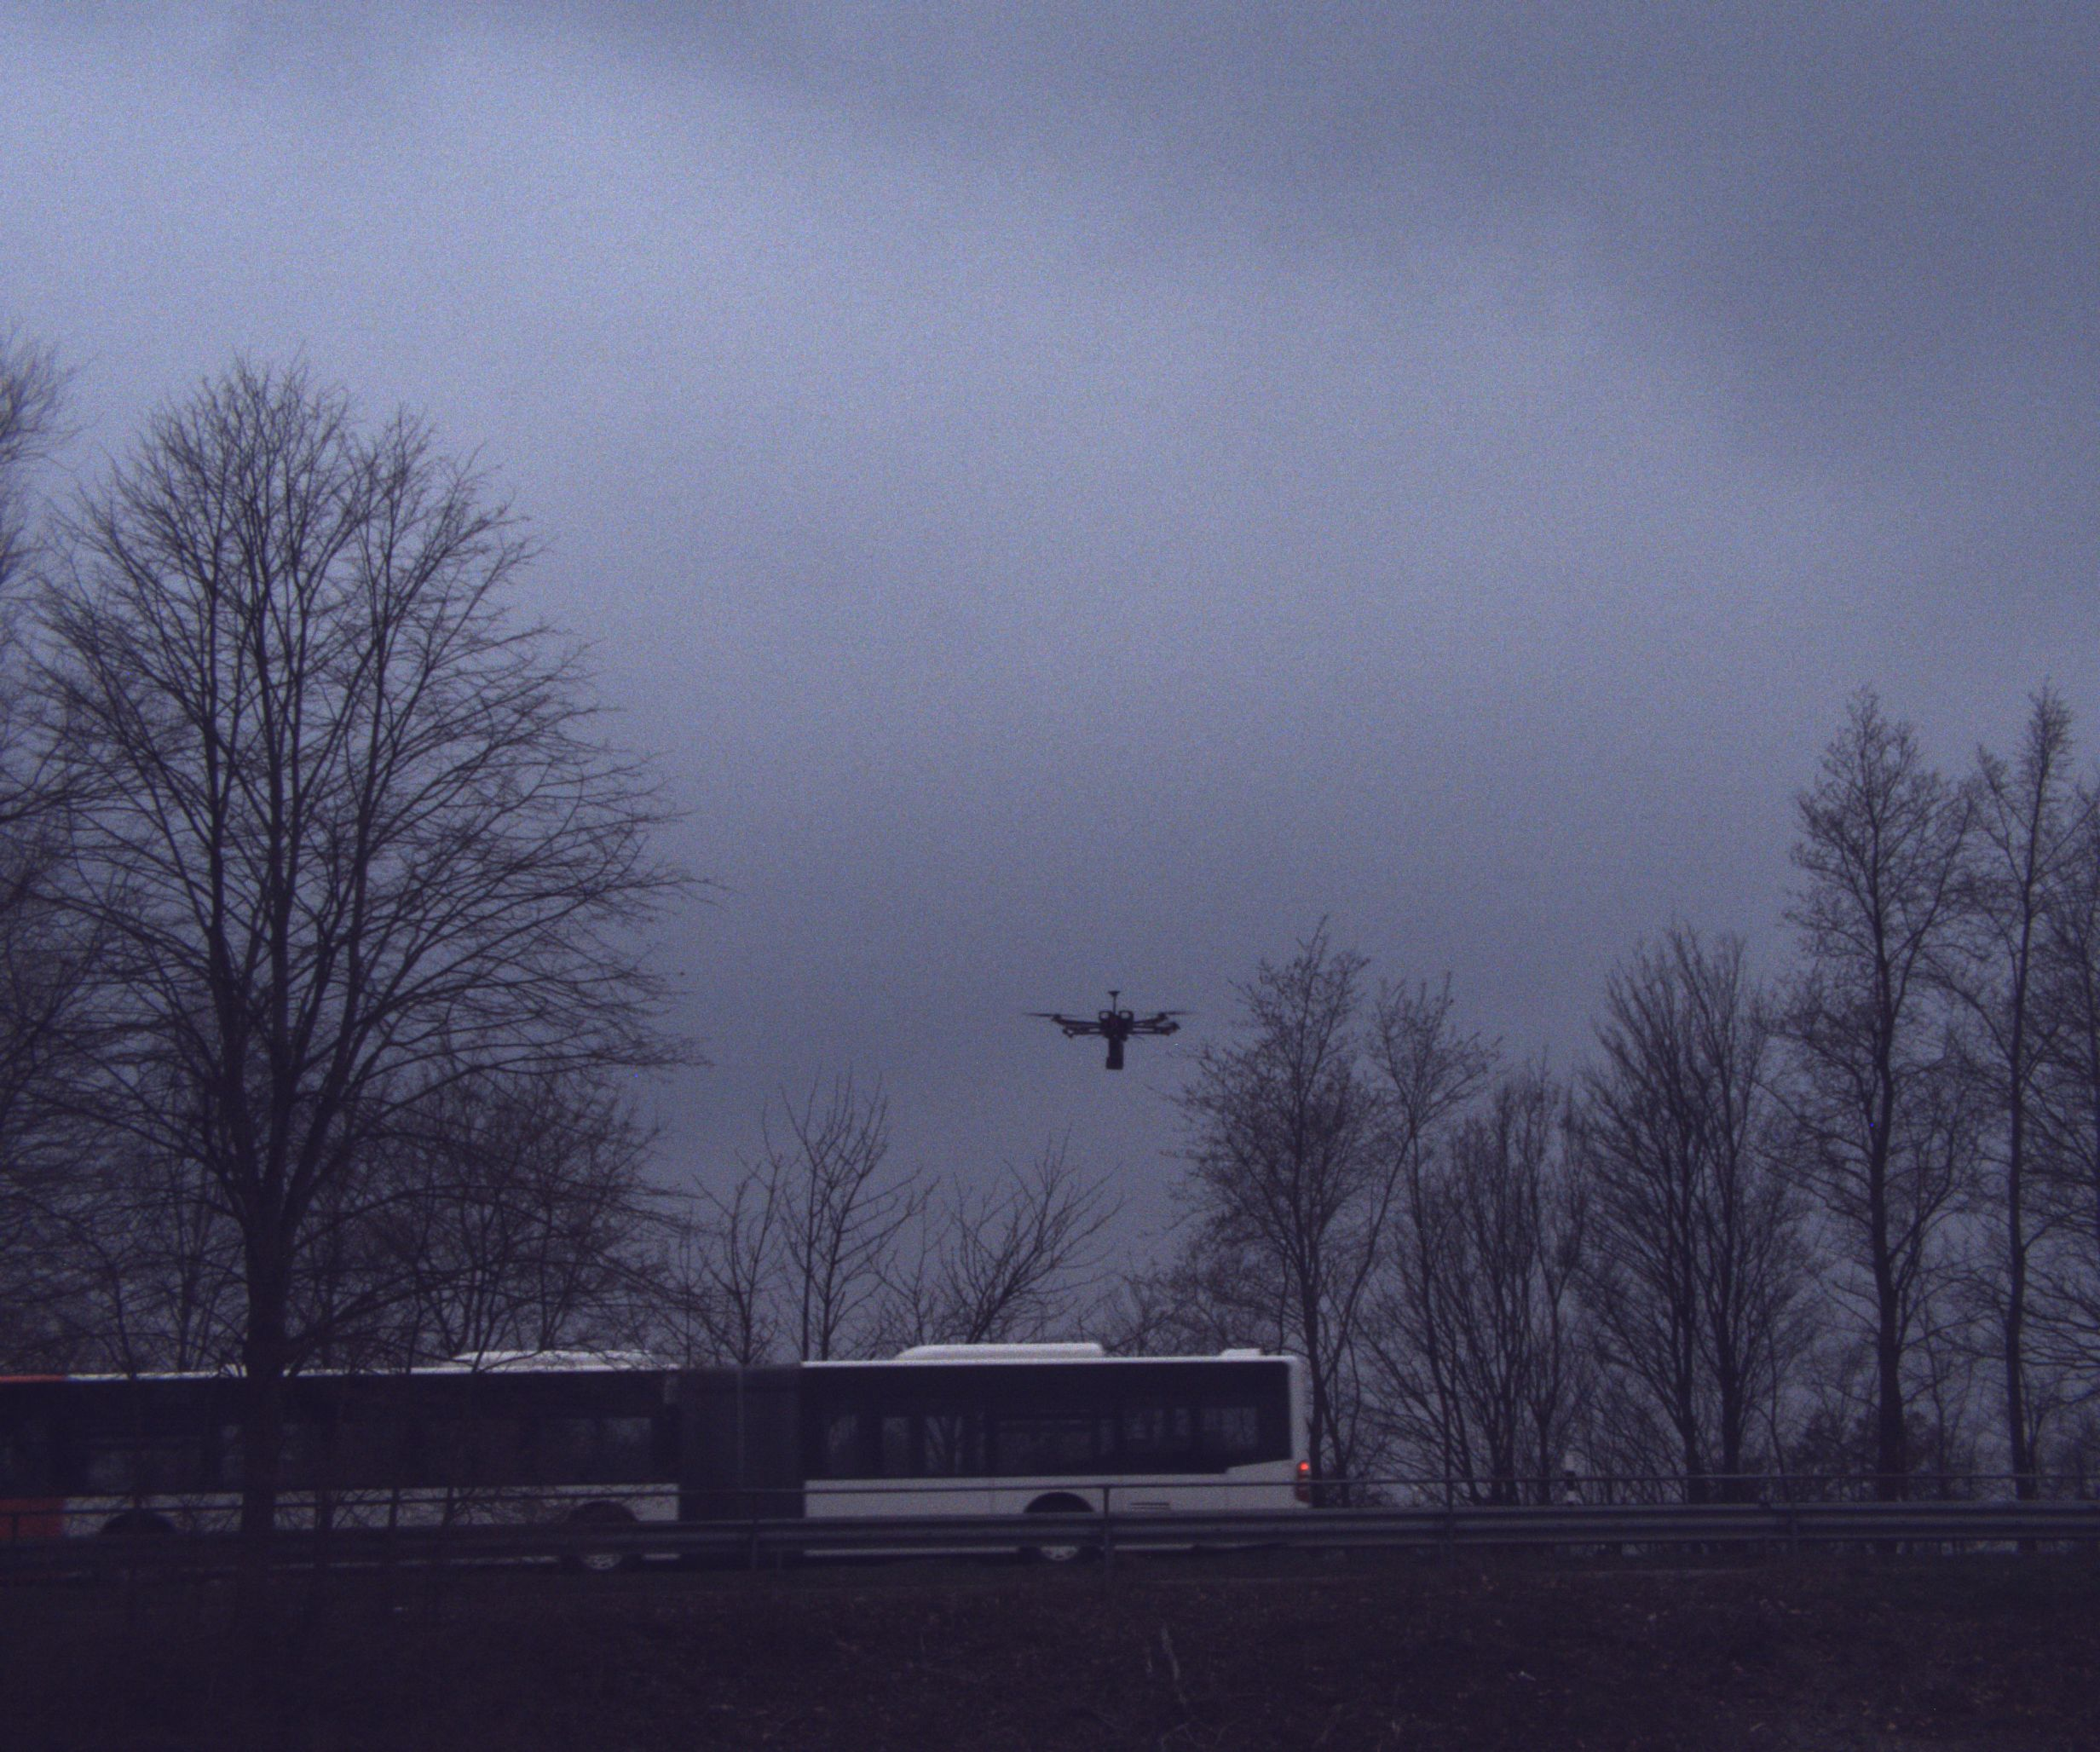Drohne: (1005, 962, 1305, 1126)
